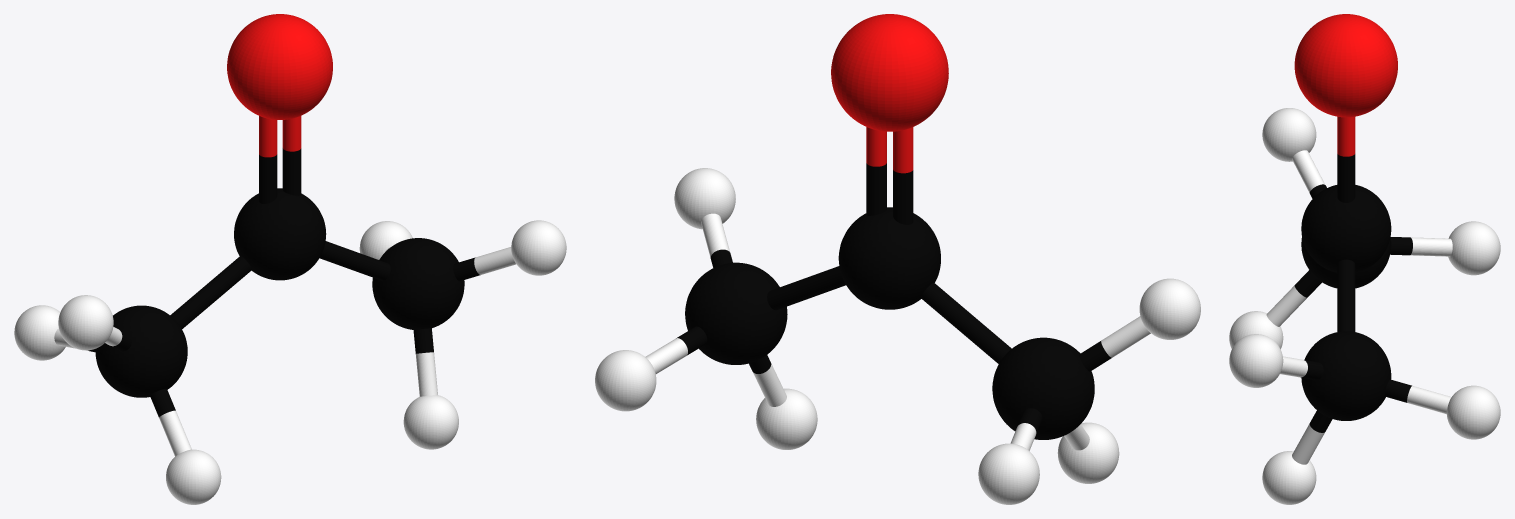
The model's file is propanona.glb.
3 renders of one model, left to right at view 1: azimuth 30°, elevation 25°; view 2: azimuth 150°, elevation 25°; view 3: azimuth 270°, elevation 25°, orthographic. The views are drawn at different scales.
Parts seen in each view (by area): view 1: Esfera_UV.004, Esfera_UV.001, Esfera_UV, Esfera_UV.002, Esfera_UV.009, Esfera_UV.005, Esfera_UV.006, Esfera_UV.007, Esfera_UV.003, Cilindro.001, Cilindro.003, Cilindro.000 (+5 smaller); view 2: Esfera_UV.004, Esfera_UV.001, Esfera_UV, Esfera_UV.002, Esfera_UV.003, Esfera_UV.008, Esfera_UV.005, Esfera_UV.009, Esfera_UV.007, Esfera_UV.006, Cilindro.001, Cilindro.003 (+7 smaller); view 3: Esfera_UV.004, Esfera_UV, Esfera_UV.001, Esfera_UV.008, Esfera_UV.009, Esfera_UV.003, Esfera_UV.005, Esfera_UV.007, Cilindro.000, Cilindro.002, Esfera_UV.002, Cilindro.004 (+6 smaller).
Boxes of the visible parts, x1,y1,x2,y2 form: Esfera_UV.004: (227, 14, 332, 119); Esfera_UV.001: (234, 188, 326, 280); Esfera_UV: (372, 238, 464, 329); Esfera_UV.002: (95, 305, 187, 397); Esfera_UV.009: (511, 220, 566, 275); Esfera_UV.005: (58, 295, 113, 350); Esfera_UV.006: (166, 449, 221, 504); Esfera_UV.007: (403, 395, 458, 449); Esfera_UV.003: (14, 305, 65, 360); Cilindro.001: (170, 256, 252, 328); Cilindro.003: (259, 116, 277, 203); Cilindro.000: (282, 116, 301, 195); Esfera_UV.004: (831, 14, 948, 131); Esfera_UV.001: (838, 207, 940, 309); Esfera_UV: (685, 262, 787, 364); Esfera_UV.002: (992, 337, 1094, 439); Esfera_UV.003: (978, 443, 1039, 504); Esfera_UV.008: (595, 350, 656, 411); Esfera_UV.005: (1139, 278, 1200, 339); Esfera_UV.009: (674, 168, 735, 229); Esfera_UV.007: (756, 388, 817, 449); Esfera_UV.006: (1057, 422, 1119, 483); Cilindro.001: (920, 282, 1011, 363); Cilindro.003: (893, 127, 913, 224); Esfera_UV.004: (1294, 14, 1397, 117); Esfera_UV: (1301, 331, 1391, 420); Esfera_UV.001: (1301, 185, 1391, 272); Esfera_UV.008: (1446, 385, 1500, 439); Esfera_UV.009: (1229, 334, 1283, 387); Esfera_UV.003: (1448, 221, 1500, 275); Esfera_UV.005: (1262, 108, 1316, 161); Esfera_UV.007: (1262, 451, 1316, 504); Cilindro.000: (1337, 116, 1355, 202); Cilindro.002: (1337, 259, 1355, 331); Esfera_UV.002: (1301, 237, 1391, 288); Cilindro.004: (1385, 379, 1451, 413).
Bounding box in the file's own units: 12.11 × 10.44 × 6.03.
